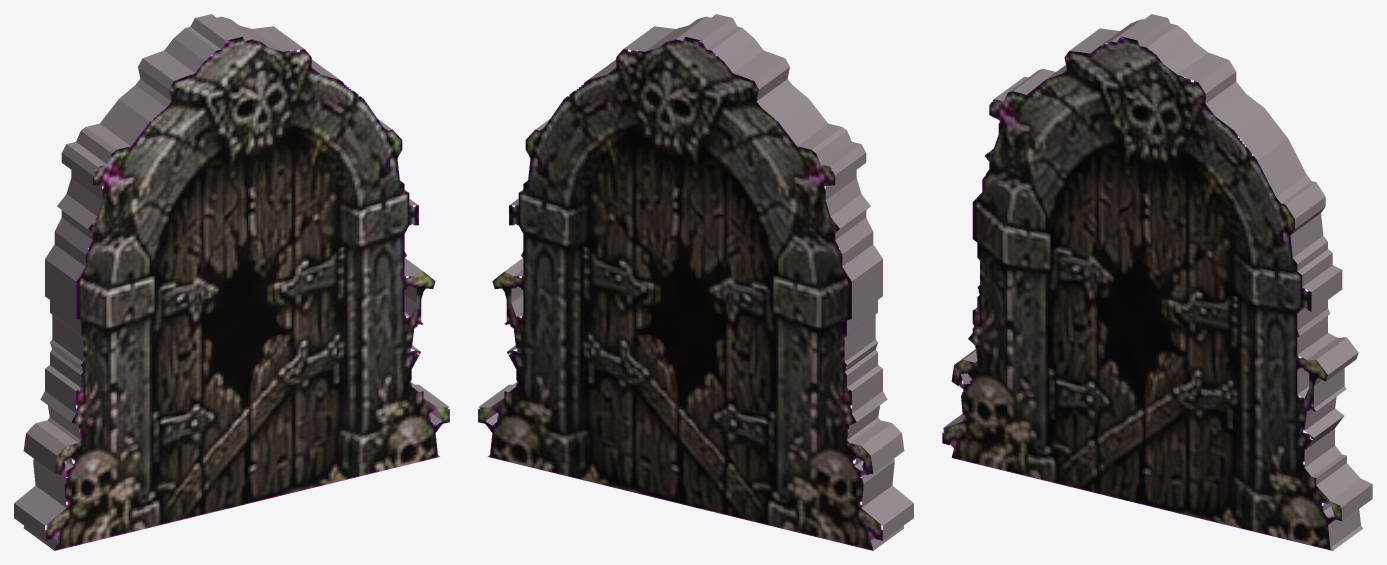
The model's file is gloom-obj-door-broken.glb.
3 renders of one model, left to right at view 1: azimuth 30°, elevation 25°; view 2: azimuth 150°, elevation 25°; view 3: azimuth 330°, elevation 25°, orthographic.
Visible parts, largest first — view 1: painted-faces, side-shell; view 2: painted-faces, side-shell; view 3: painted-faces, side-shell.
Boxes of the visible parts, bbox=[...] form: painted-faces: bbox=[45, 37, 449, 550]; side-shell: bbox=[14, 14, 449, 550]; painted-faces: bbox=[478, 37, 882, 550]; side-shell: bbox=[478, 14, 913, 550]; painted-faces: bbox=[942, 36, 1341, 550]; side-shell: bbox=[942, 14, 1372, 550].
Size of the model in its own units: 0.9043 by 1 by 0.12.
Materials: 2 (1 with a texture image).
